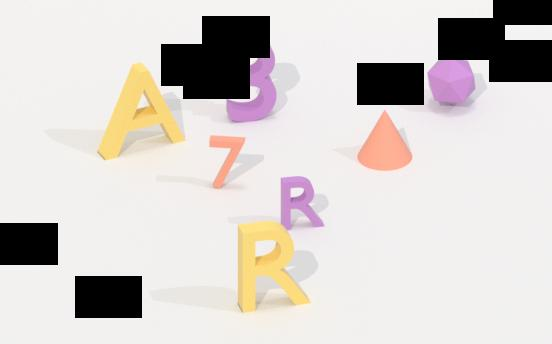3: (225, 33, 278, 123)
7: (207, 131, 248, 194)
A-hoa: (95, 59, 189, 164)
R-hoa: (230, 215, 314, 317), (274, 172, 329, 234)
dagiac: (426, 54, 476, 107)
non: (354, 106, 415, 173)
